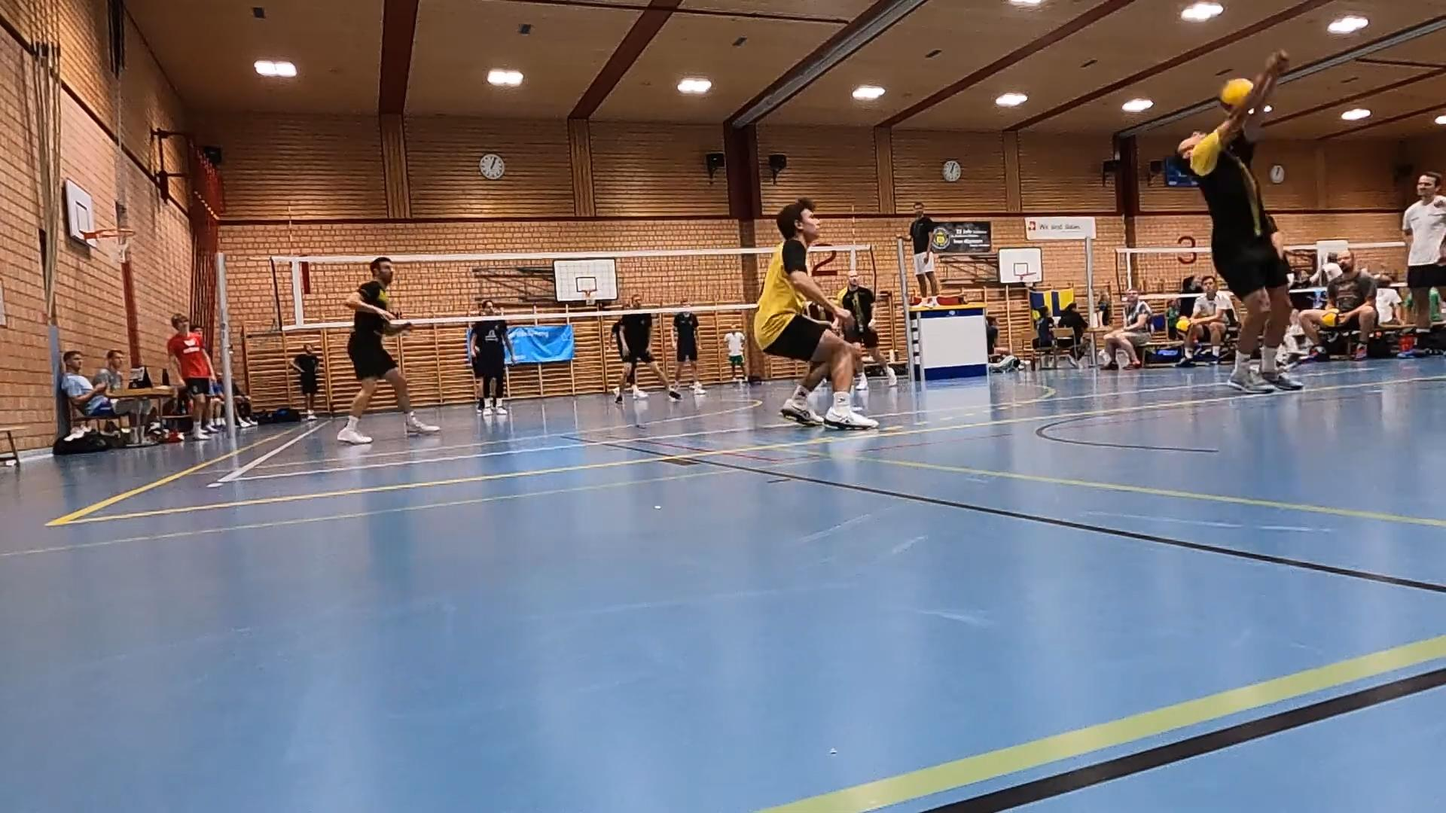Player: (755, 198, 877, 429), (337, 257, 438, 444), (615, 312, 681, 403), (469, 300, 512, 416), (838, 270, 879, 361), (673, 297, 704, 394), (610, 318, 646, 398)
Set: (1174, 102, 1308, 393)
ball: (1214, 79, 1257, 107)
